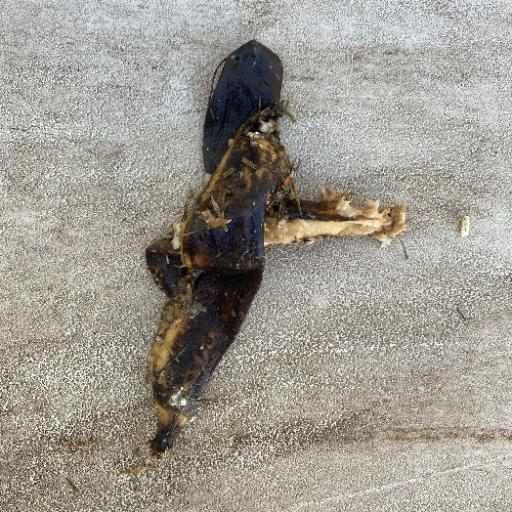Waste: (141, 38, 408, 460)
